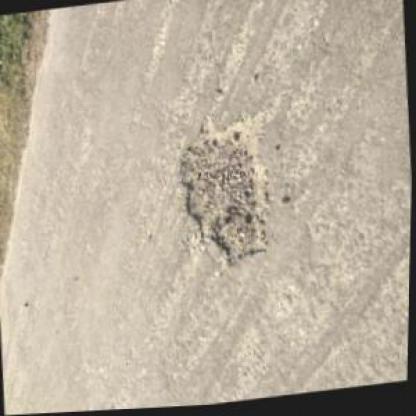pothole: (172, 108, 276, 276)
